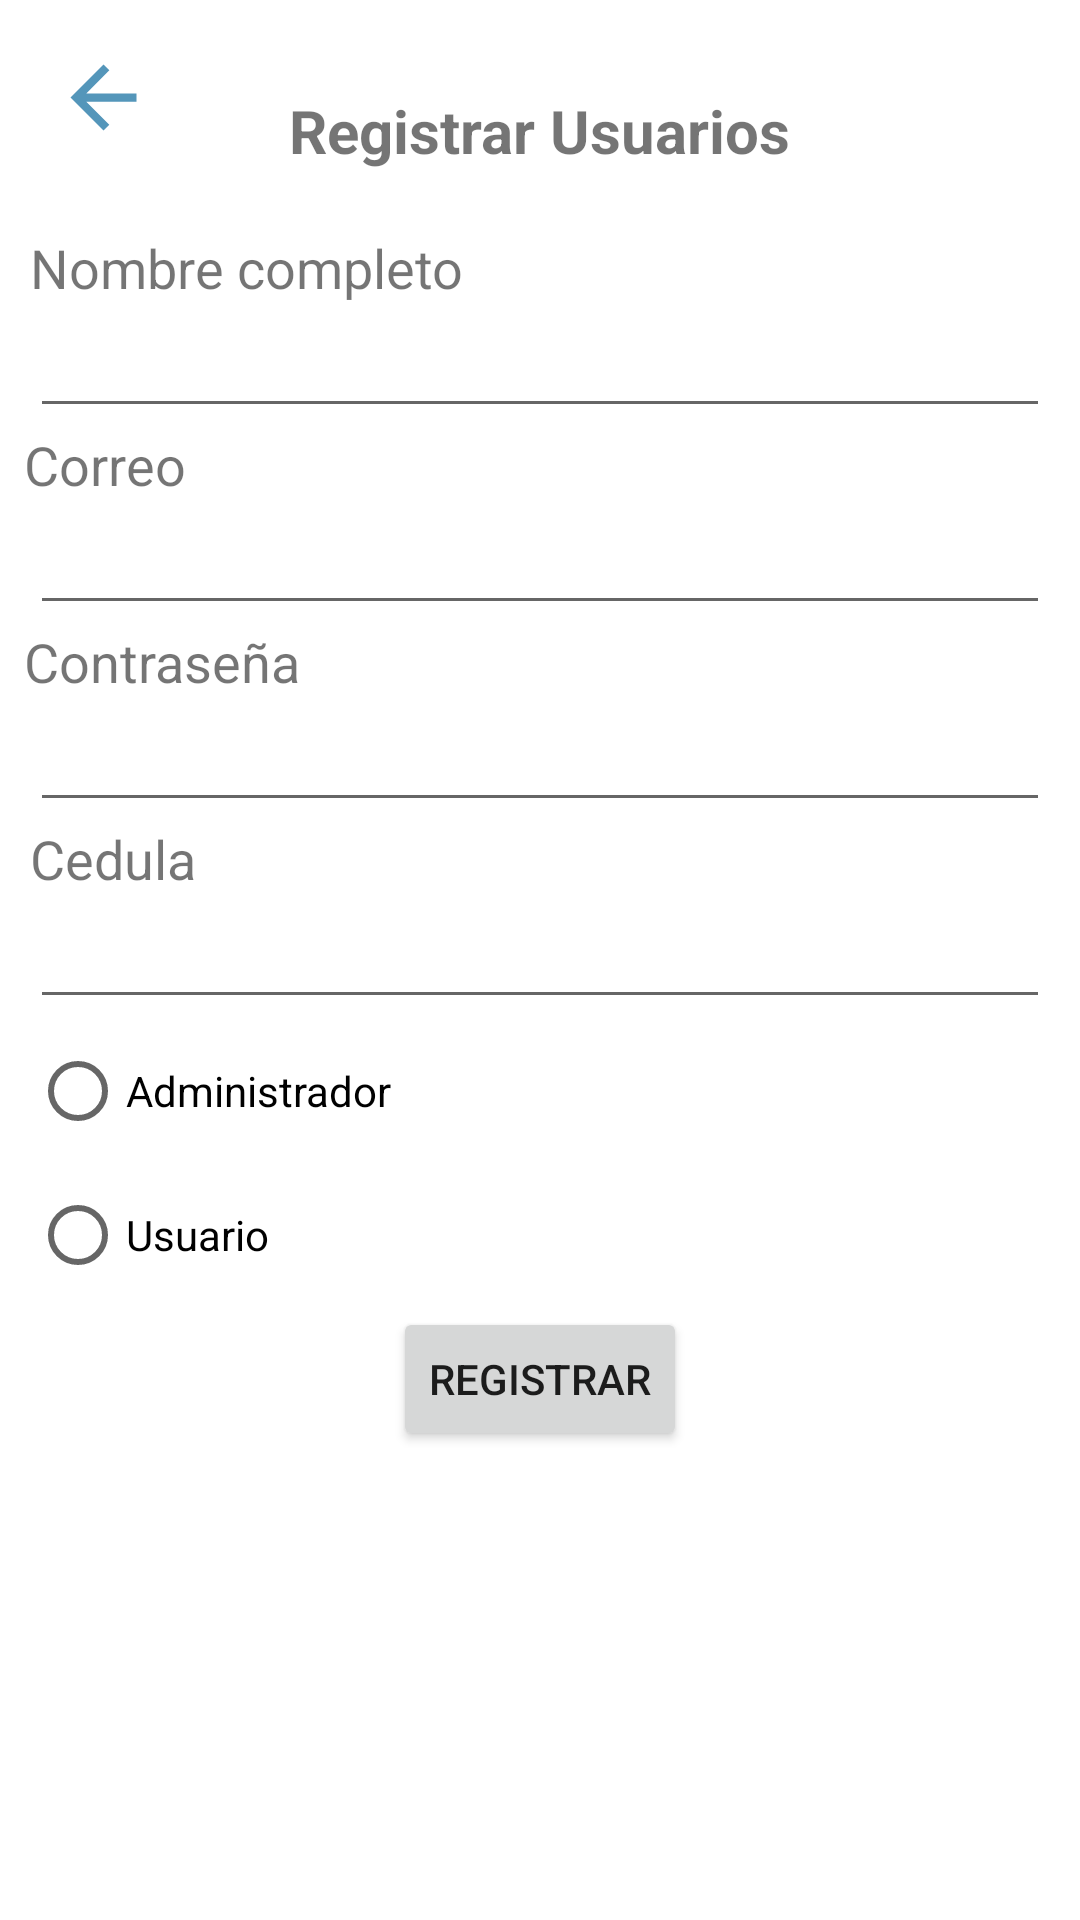

Where icons sit on this 1080*1920 app screen, as (x1, y1, x2, y2):
arrow: (70, 64, 137, 131)
